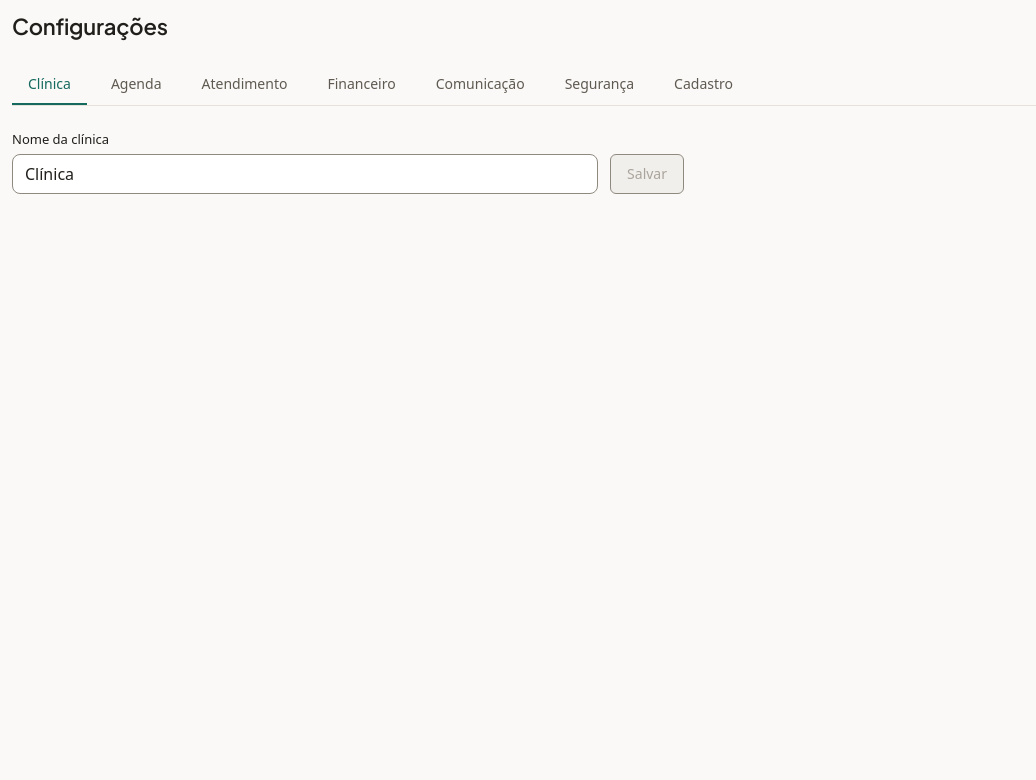
PaginaConfiguracoes — abas por grupo › NÃO deve deixar nenhuma seção com um controle só
Expected: the tab "Mensagens" is not shown
Expected: the tab "Notificações" is not shown
Step 1. Click the tab "Comunicação" → point(480, 85), box [420, 65, 541, 105]
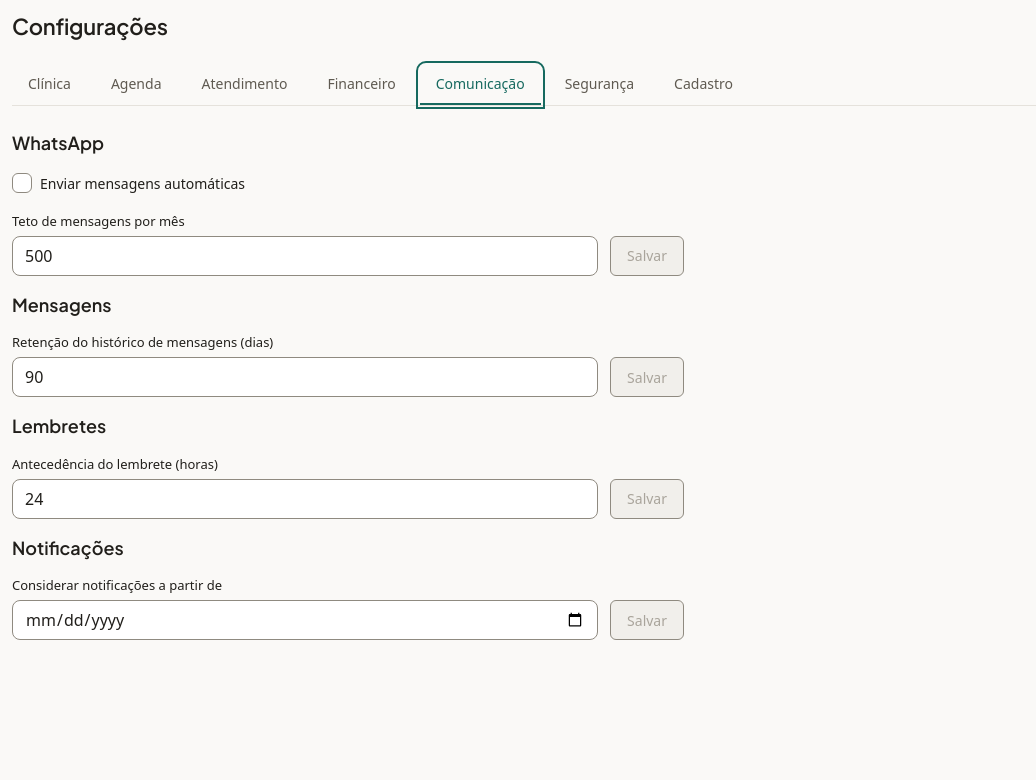
Expected: the number field labelled "Retenção do histórico de mensagens (dias)" is shown, [12, 357, 598, 397]
Now the date field labelled "Considerar notificações a partir de" is shown, box [12, 600, 598, 640]
